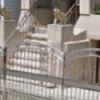stairs: (5, 25, 49, 76)
